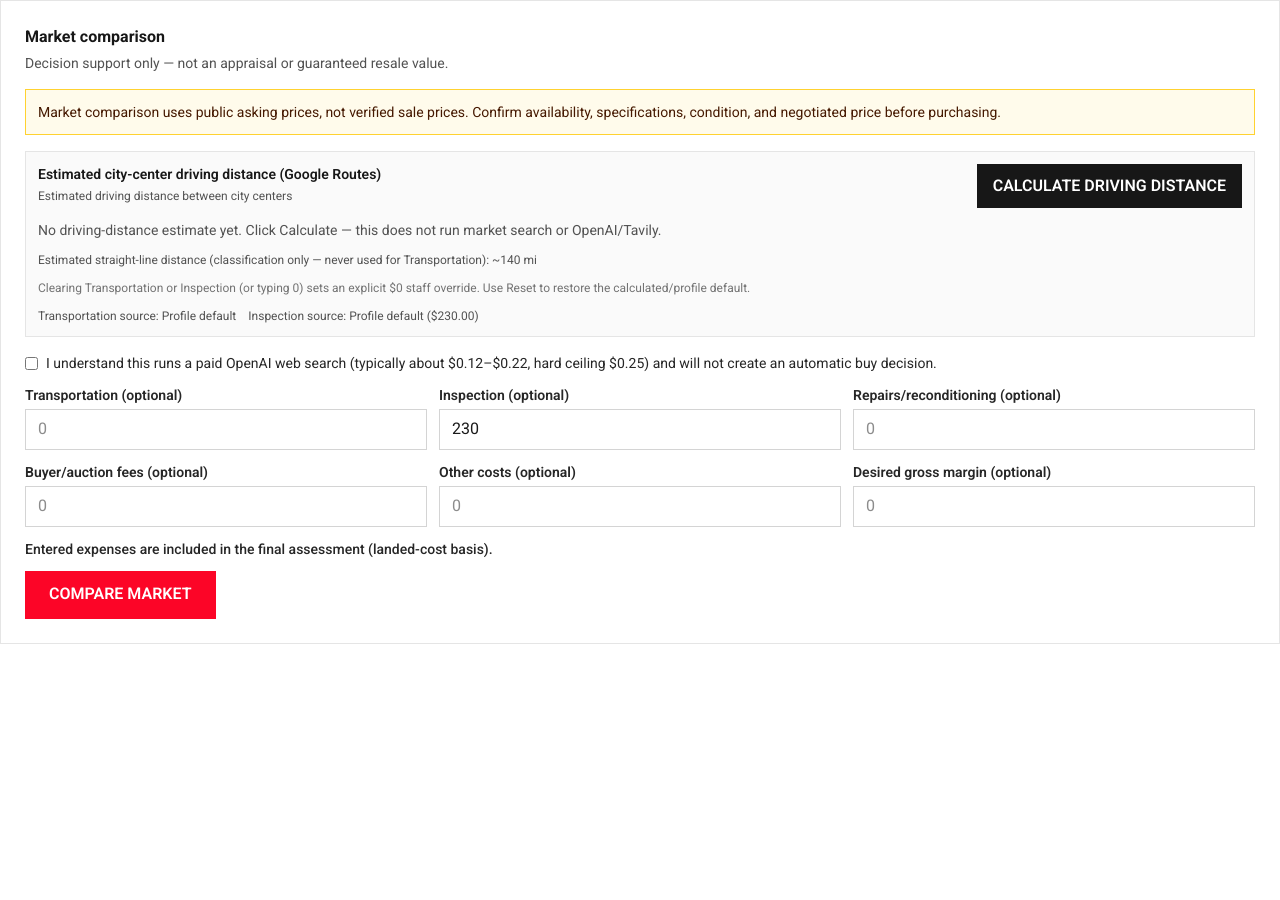
Test case: Market Comparison Transportation autopopulate › successful Google result populates Transportation (160 × $2.25 = $360.00)
Click the button with test id "calculate-driving-distance". click: (1109, 186)
box: [977,164,1242,208]
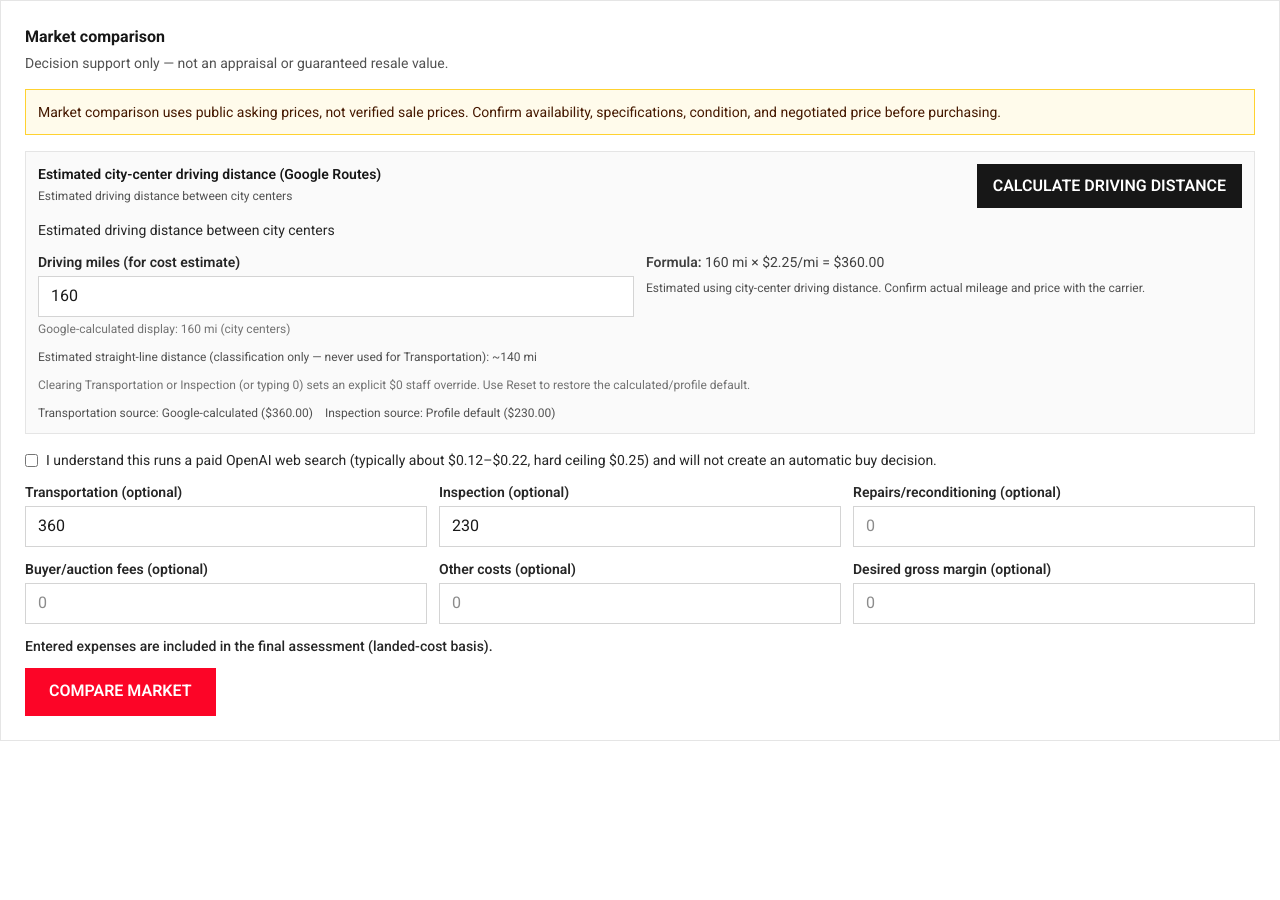
Now the number field with test id "cost-input-transportation" holds "360", box [25,506,427,547]
Now the element with test id "transportation-formula" shows "160 mi × $2.25/mi = $360.00", box [705,254,884,270]
Now the text with test id "transportation-source" shows "Google-calculated", box [162,406,258,420]
